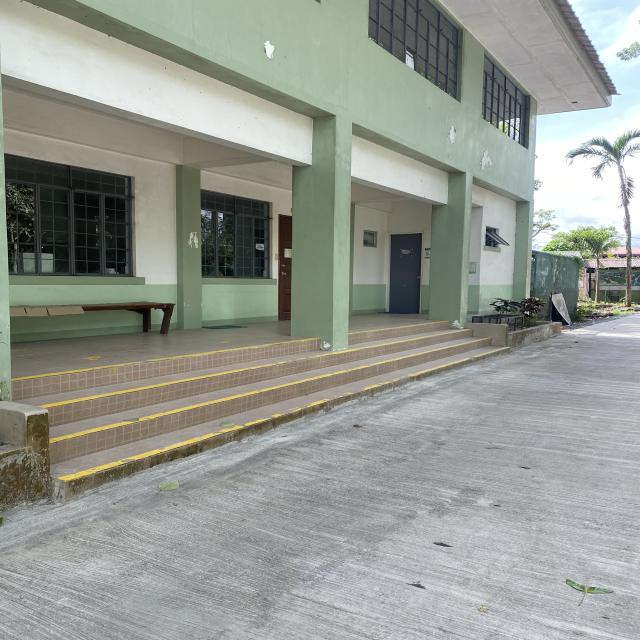stair: (13, 320, 509, 499)
